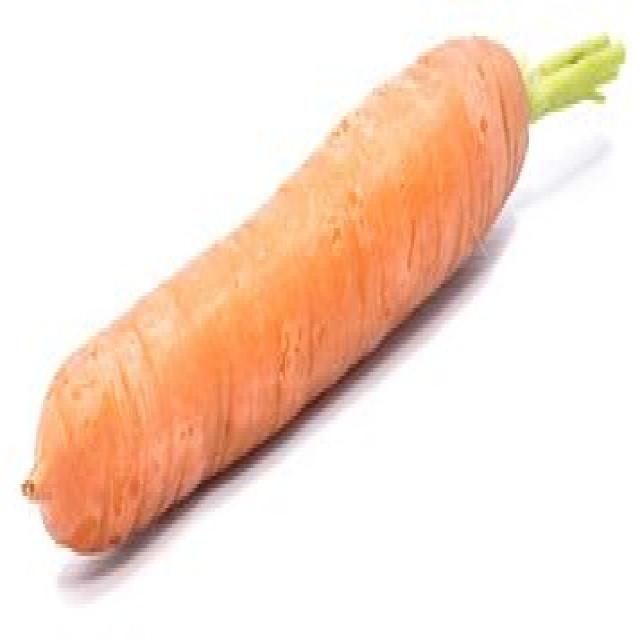Carrot: (19, 25, 627, 564)
